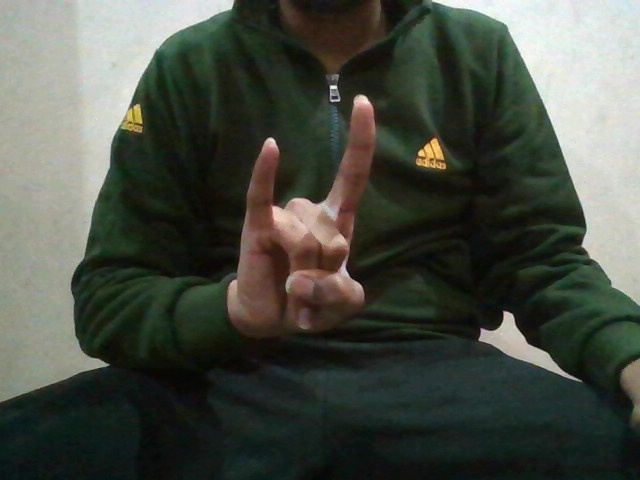U: (240, 96, 393, 342)
